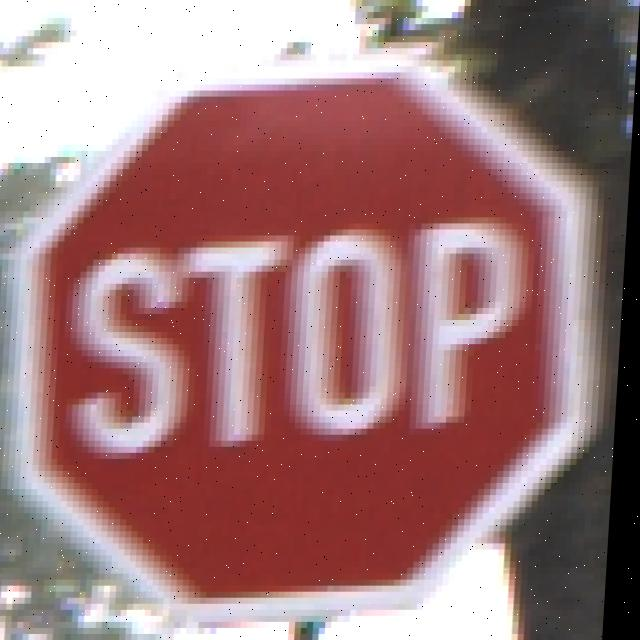stop: (24, 96, 632, 592)
